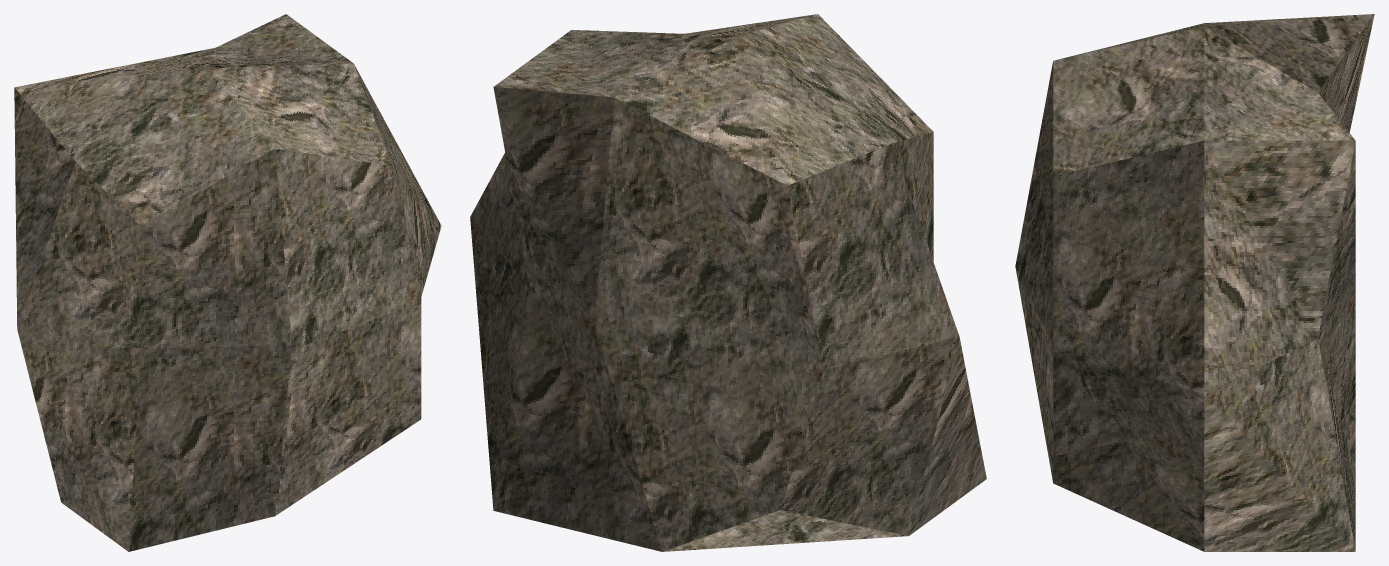
The model's file is rock_3.gltf.
3 renders of one model, left to right at view 1: azimuth 30°, elevation 25°; view 2: azimuth 150°, elevation 25°; view 3: azimuth 270°, elevation 25°, orthographic. The views are drawn at different scales.
Parts seen in each view (by area): view 1: mesh; view 2: mesh; view 3: mesh.
Part boxes in pixels (box(x1,y1,x2,y2)): mesh: box(14, 14, 441, 551); mesh: box(470, 14, 986, 551); mesh: box(1015, 14, 1374, 551).
Size of the model in its own units: 1.81 by 1.62 by 1.19.
Materials: 1 (1 with a texture image).
